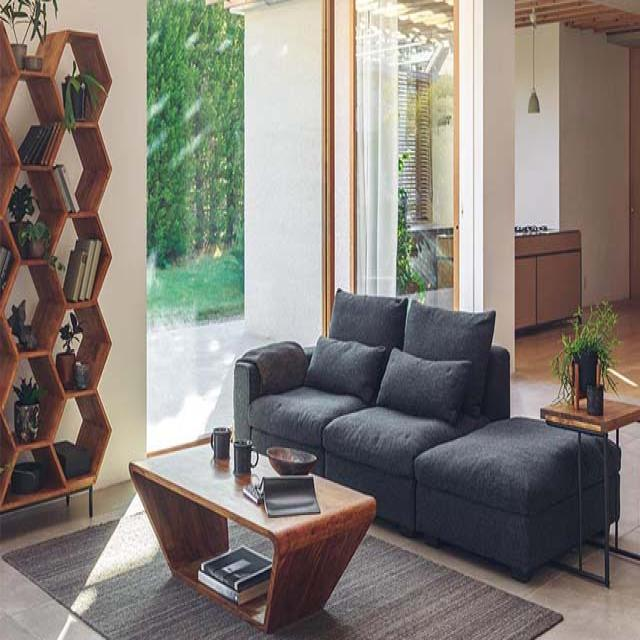modern desk: (127, 424, 380, 635)
modern shelf: (0, 18, 116, 530)
modern sofa: (226, 282, 622, 565)
